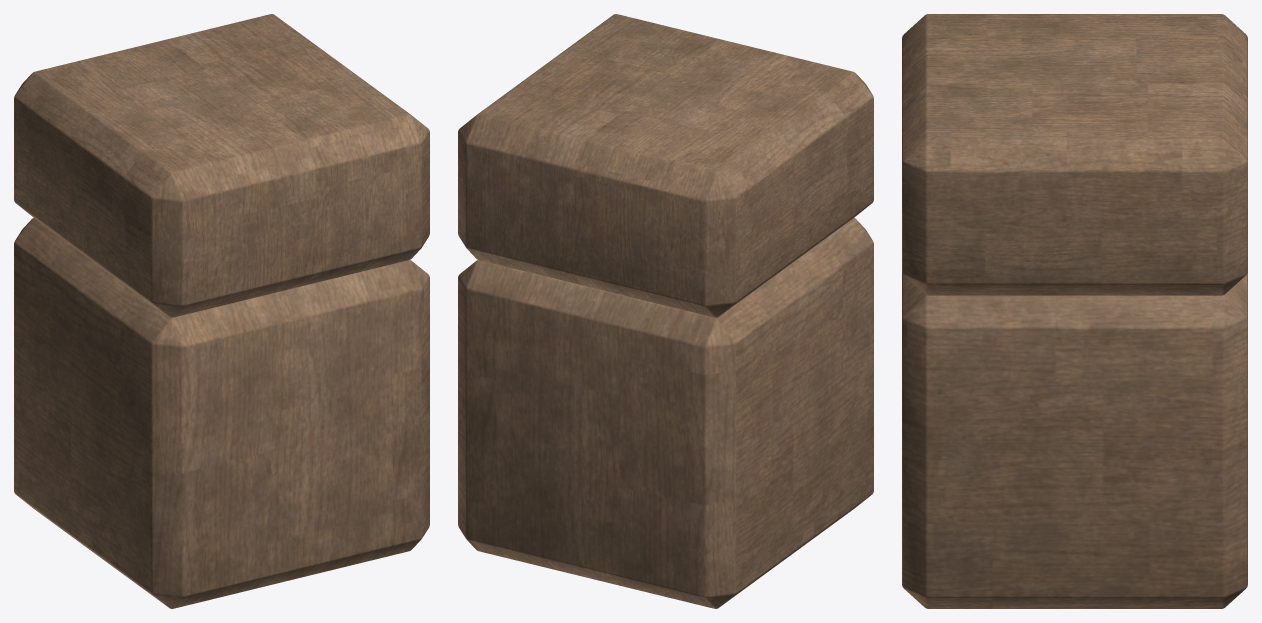
File: block6.fbx
3 views of the same model, side by side, from view 1: azimuth 30°, elevation 25°; view 2: azimuth 150°, elevation 25°; view 3: azimuth 270°, elevation 25° (orthographic). The views are drawn at different scales.
Visible parts, largest first — view 1: block6; view 2: block6; view 3: block6.
Boxes of the visible parts, left/top/right/bottom form: block6: left=14, top=14, right=429, bottom=608; block6: left=458, top=14, right=873, bottom=608; block6: left=902, top=14, right=1247, bottom=608.
Bounding box in the file's own units: 200 × 300 × 200.
